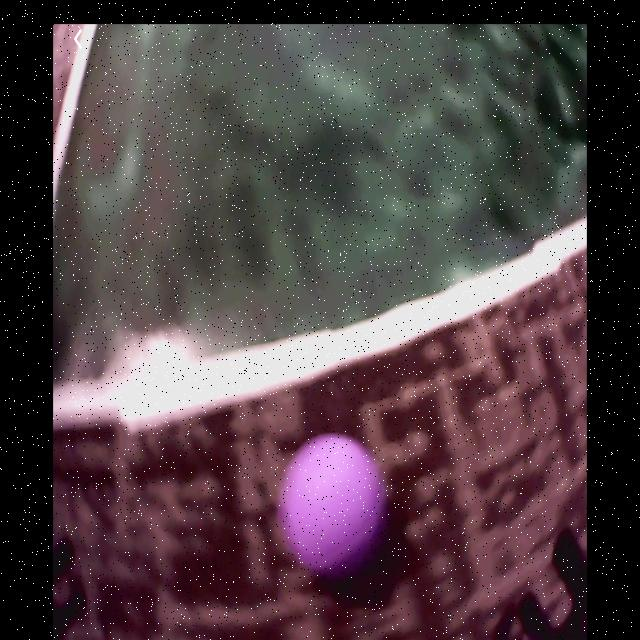ball: (279, 434, 386, 584)
